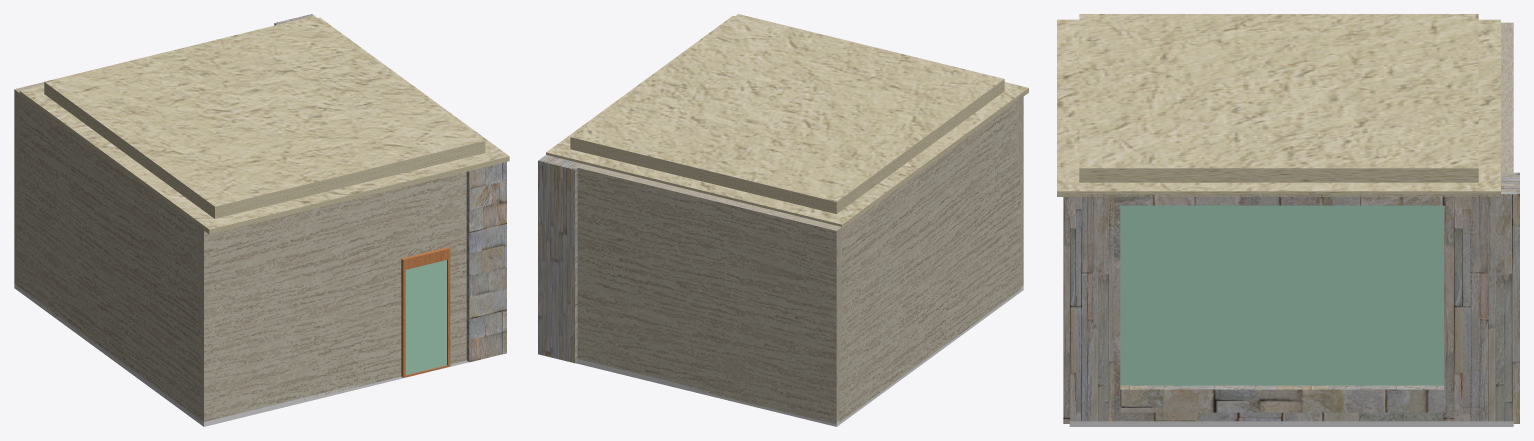
Rendered from room04_6.fbx.
The picture shows the model from 3 angles, left to right: view 1: azimuth 30°, elevation 25°; view 2: azimuth 150°, elevation 25°; view 3: azimuth 270°, elevation 25°; orthographic projection. The views are drawn at different scales.
Parts seen in each view (by area): view 1: ceiling, leftwall, backwall, leftcube, door, floor, doorframe, rightwall; view 2: ceiling, rightwall, backwall, rightcube, floor, leftwall; view 3: ceiling, window, frontwall, rightcube, leftcube, floor, rightwall.
Part boxes in pixels (bbox=[...]): ceiling: bbox=[19, 16, 509, 234]; leftwall: bbox=[198, 172, 466, 421]; backwall: bbox=[17, 96, 201, 421]; leftcube: bbox=[466, 162, 506, 362]; door: bbox=[405, 260, 446, 374]; floor: bbox=[14, 283, 468, 426]; doorframe: bbox=[401, 247, 450, 377]; rightwall: bbox=[14, 82, 44, 284]; ceiling: bbox=[546, 14, 1028, 229]; rightwall: bbox=[577, 164, 841, 424]; backwall: bbox=[839, 99, 1020, 422]; rightcube: bbox=[538, 155, 582, 363]; floor: bbox=[575, 285, 1023, 426]; leftwall: bbox=[1018, 94, 1023, 286]; ceiling: bbox=[1057, 14, 1500, 196]; window: bbox=[1120, 205, 1443, 385]; frontwall: bbox=[1101, 194, 1481, 423]; rightcube: bbox=[1444, 172, 1519, 423]; leftcube: bbox=[1063, 194, 1113, 423]; floor: bbox=[1069, 421, 1513, 426]; rightwall: bbox=[1501, 22, 1513, 172].
Size of what is drawn, in the model's own units: 640 by 435 by 730.
